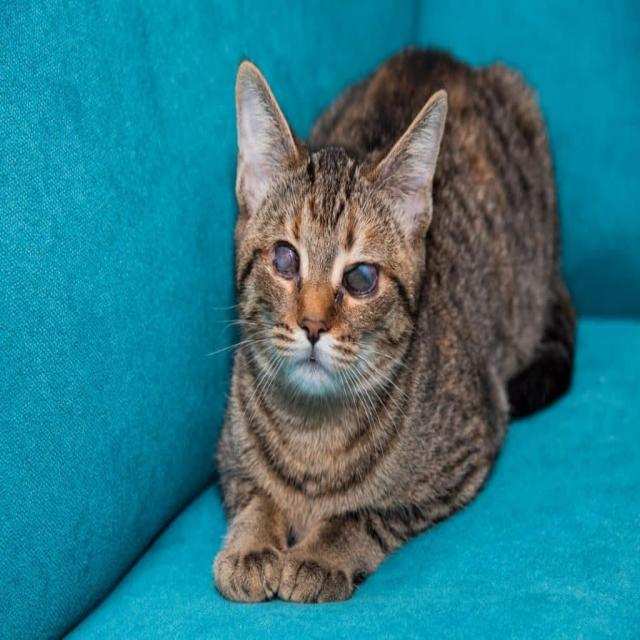cat-eye: (337, 253, 384, 301), (269, 234, 303, 288)
